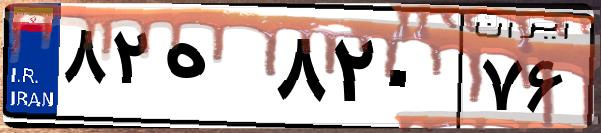0: (385, 28, 445, 110)
2: (330, 28, 385, 110), (110, 28, 158, 98)
6: (525, 38, 570, 115)
7: (475, 38, 525, 113)
8: (270, 28, 330, 110), (57, 26, 110, 100)
ه: (158, 20, 270, 120)
